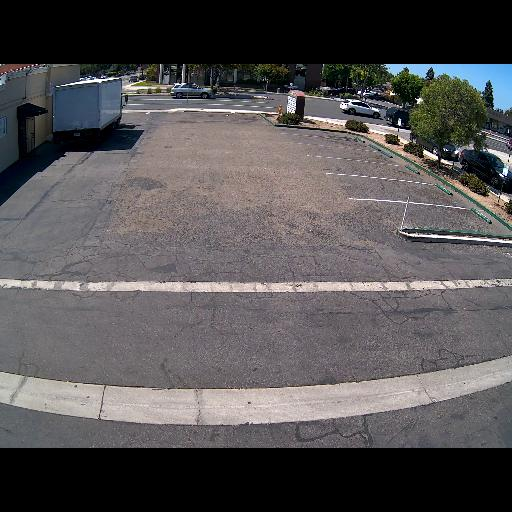car: (49, 76, 128, 142), (455, 147, 511, 196), (407, 123, 459, 161), (338, 96, 382, 120), (169, 81, 213, 99), (383, 106, 413, 129), (324, 84, 355, 98), (363, 92, 385, 101), (127, 74, 138, 83)
